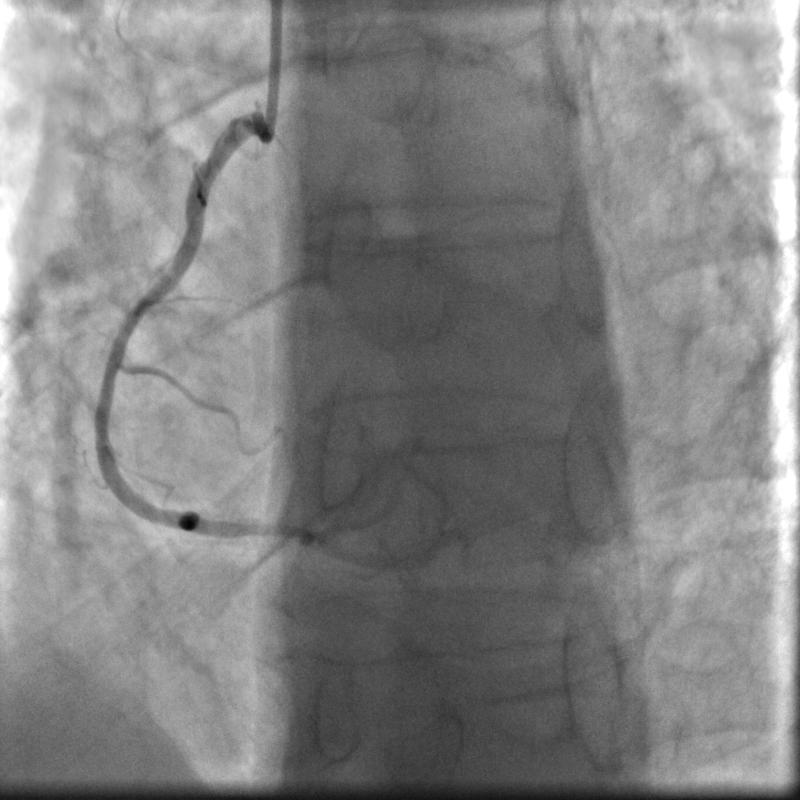Stenosis: (196, 490, 303, 563)
